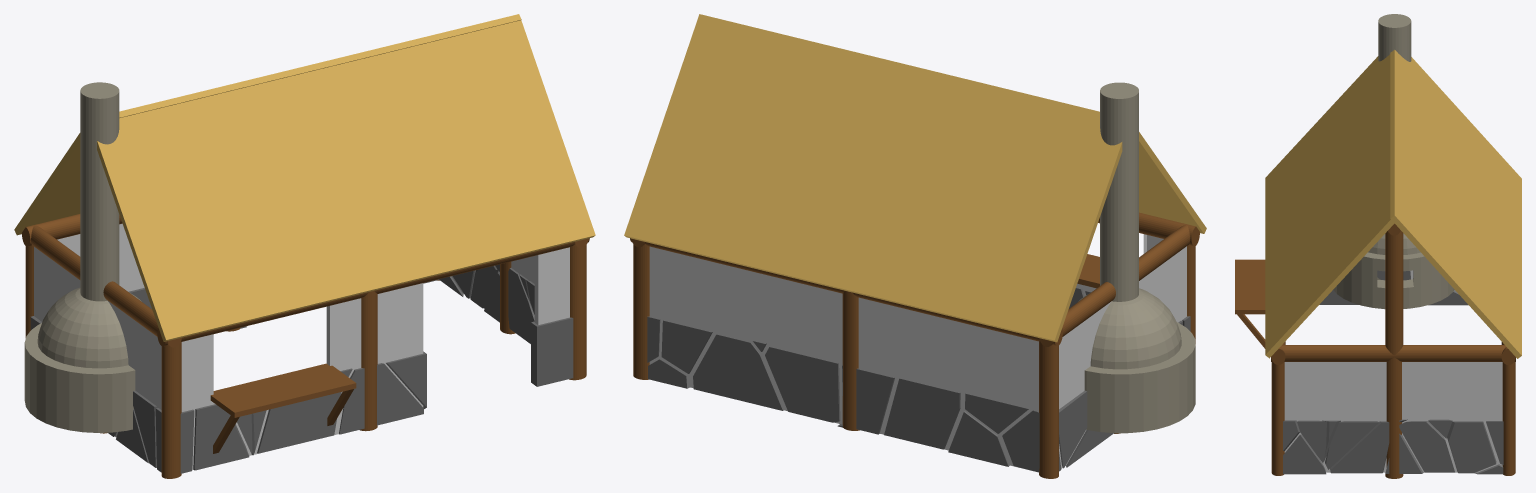
Rendered from Bakery.fbx.
The picture shows the model from 3 angles, left to right: view 1: azimuth 30°, elevation 25°; view 2: azimuth 150°, elevation 25°; view 3: azimuth 270°, elevation 25°; orthographic projection. The views are drawn at different scales.
Parts seen in each view (by area): view 1: Roof, Oven, Stone Walls, Clay Walls, Struts, Platform; view 2: Roof, Clay Walls, Stone Walls, Oven, Struts; view 3: Roof, Clay Walls, Stone Walls, Struts, Oven, Platform.
Part boxes in pixels (x1,y1,x2,y2): Roof: [14, 14, 595, 341]; Oven: [24, 82, 141, 432]; Stone Walls: [30, 264, 573, 473]; Clay Walls: [34, 223, 569, 469]; Struts: [22, 214, 589, 478]; Platform: [210, 363, 356, 453]; Roof: [624, 14, 1206, 342]; Clay Walls: [649, 234, 1186, 471]; Stone Walls: [647, 287, 1190, 472]; Oven: [1077, 82, 1195, 433]; Struts: [630, 212, 1199, 478]; Roof: [1265, 50, 1521, 358]; Clay Walls: [1284, 270, 1502, 472]; Stone Walls: [1283, 270, 1503, 474]; Struts: [1271, 223, 1515, 478]; Oven: [1333, 14, 1454, 309]; Platform: [1235, 259, 1265, 348].
Bounding box in the file's own units: 205 × 137 × 124.
